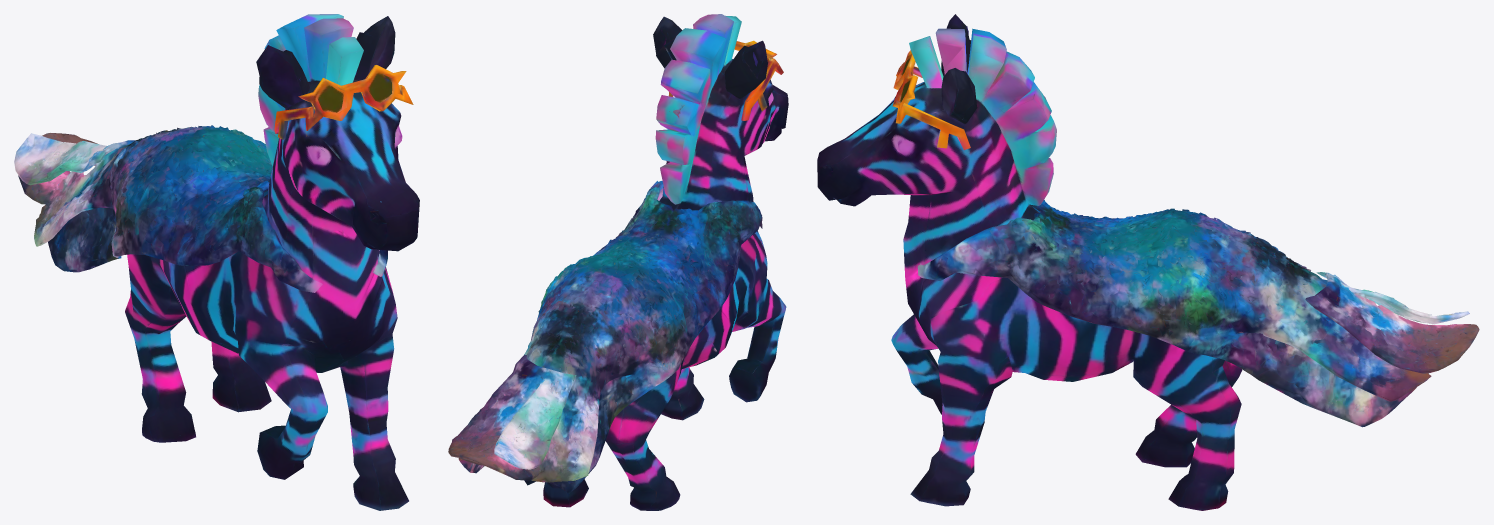
File: runway_zebra.glb
3 views of the same model, side by side, from view 1: azimuth 30°, elevation 25°; view 2: azimuth 150°, elevation 25°; view 3: azimuth 270°, elevation 25° (orthographic). The views are drawn at different scales.
Visible parts, largest first — view 1: world; view 2: world; view 3: world.
Boxes of the visible parts, x1,y1,x2,y2 form: world: (14, 14, 419, 510); world: (448, 14, 788, 510); world: (817, 14, 1479, 510).
Size of the model in its own units: 0.2723 by 0.7502 by 0.9996.
1 material, 1 textured.
